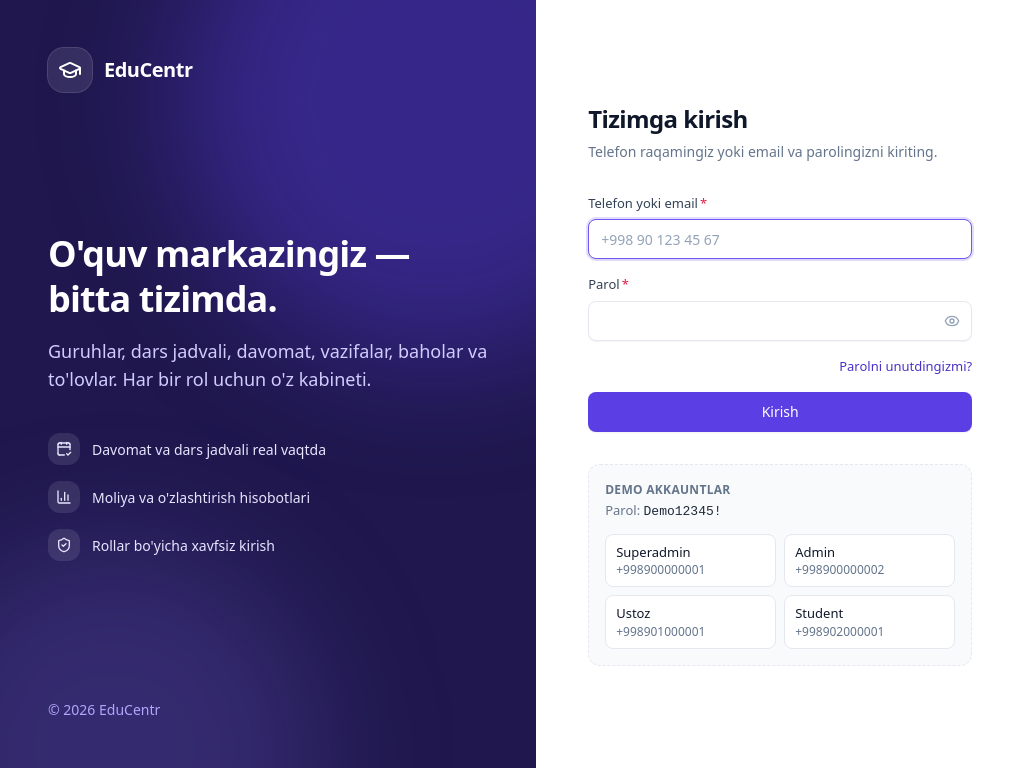
Test: submits credentials and shows the backend error message
Type "+998900000002" into the field labelled "Telefon yoki email*" at coordinates (780, 239), box [588,219,972,259]
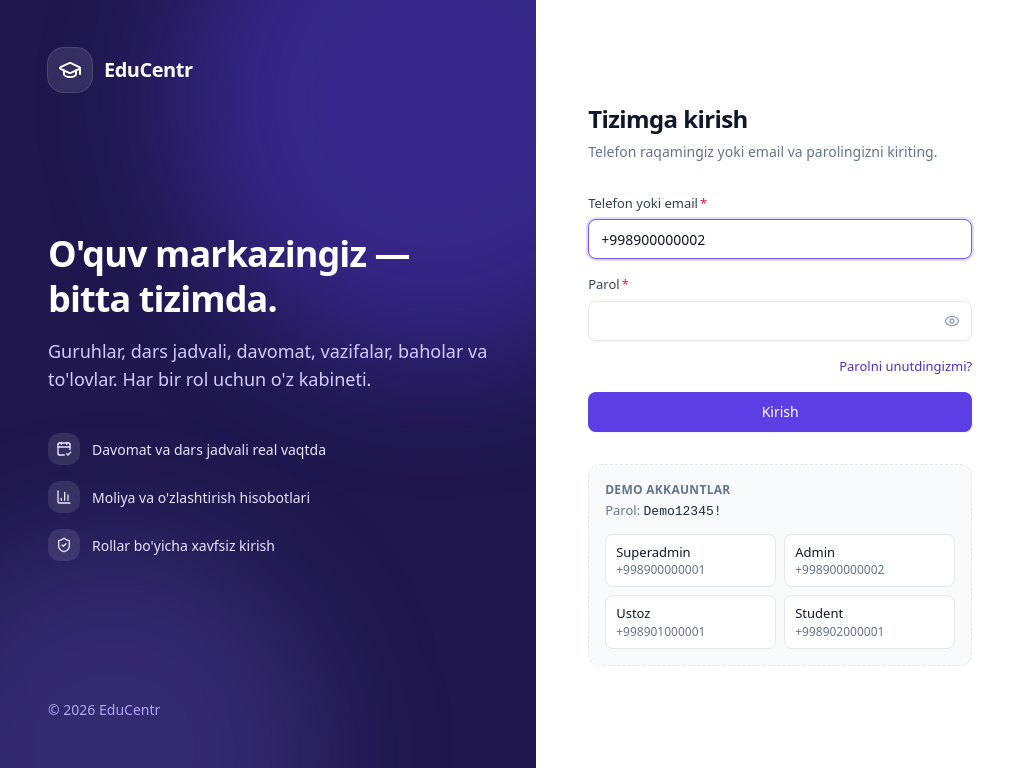
Type "wrong-pass" into the password field labelled "Parol*" at coordinates (780, 320), box [588,300,972,340]
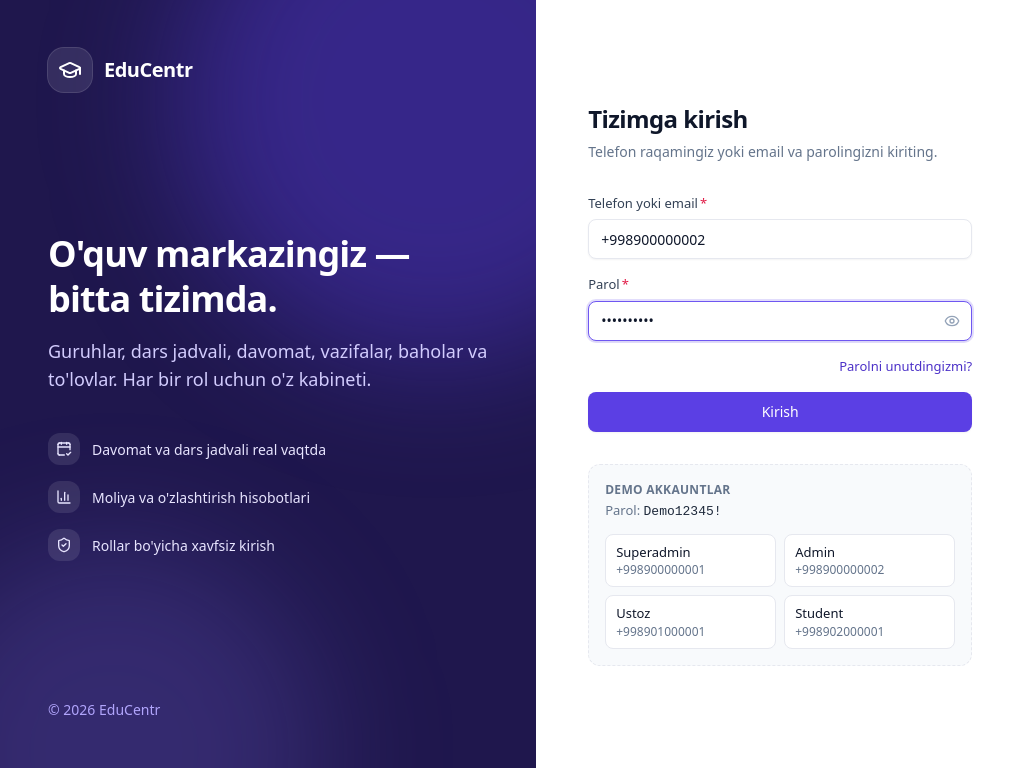
Click the button "Kirish" at coordinates (780, 412), box [588,392,972,432]
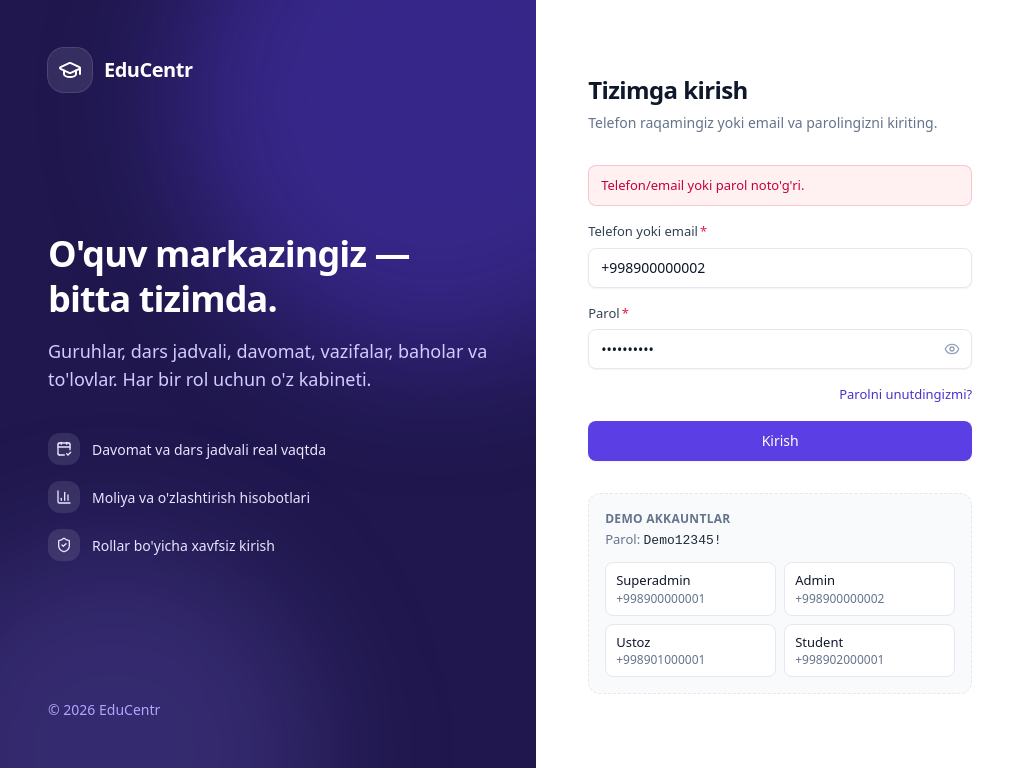
Expected: the message reads "Telefon/email yoki parol noto'g'ri.", [601,176,804,194]
